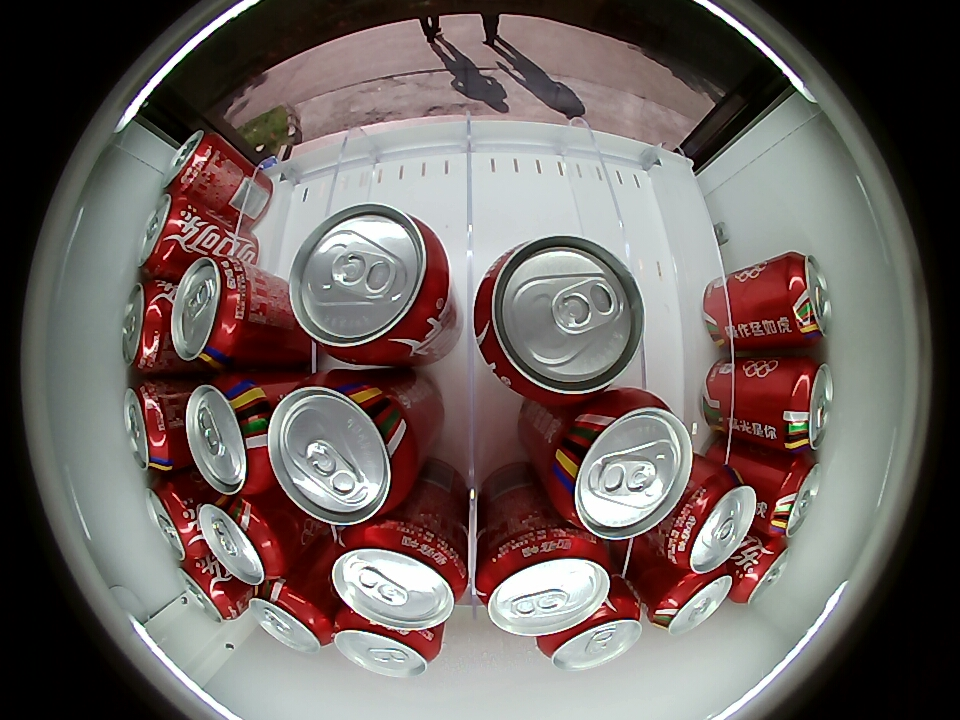kele: (474, 235, 645, 402), (288, 203, 450, 364), (268, 375, 419, 526), (549, 388, 694, 540), (475, 528, 611, 638), (331, 522, 467, 631), (186, 375, 272, 495), (667, 470, 756, 574), (171, 257, 251, 368), (538, 596, 643, 670), (200, 495, 286, 585), (332, 615, 441, 677), (249, 582, 333, 654), (651, 568, 732, 635), (761, 452, 822, 538), (775, 251, 832, 343), (124, 380, 180, 472), (778, 359, 833, 452), (145, 478, 204, 562), (137, 193, 194, 277), (121, 281, 171, 373), (732, 537, 792, 606), (176, 560, 241, 623), (162, 130, 221, 196)
